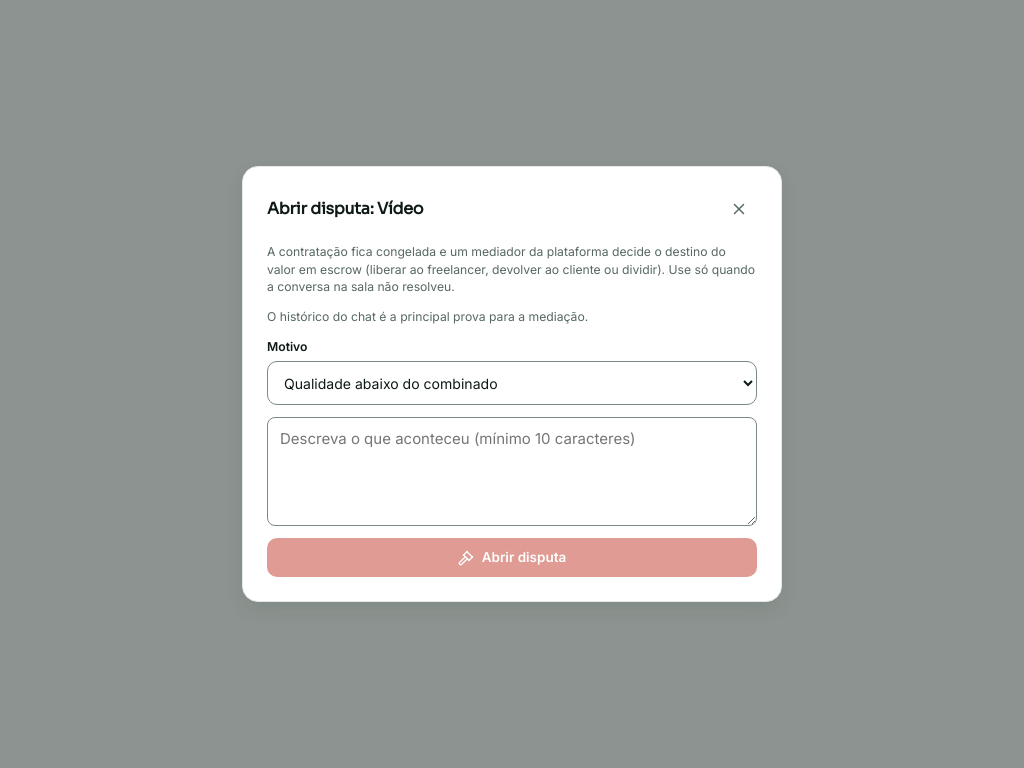
DisputeModal › a API recusa: mostra a mensagem dela e o modal continua aberto, com o texto digitado
In the text box named "Descrição da disputa": (512,472) [267,417,757,526], type "Não recebi o arquivo final."
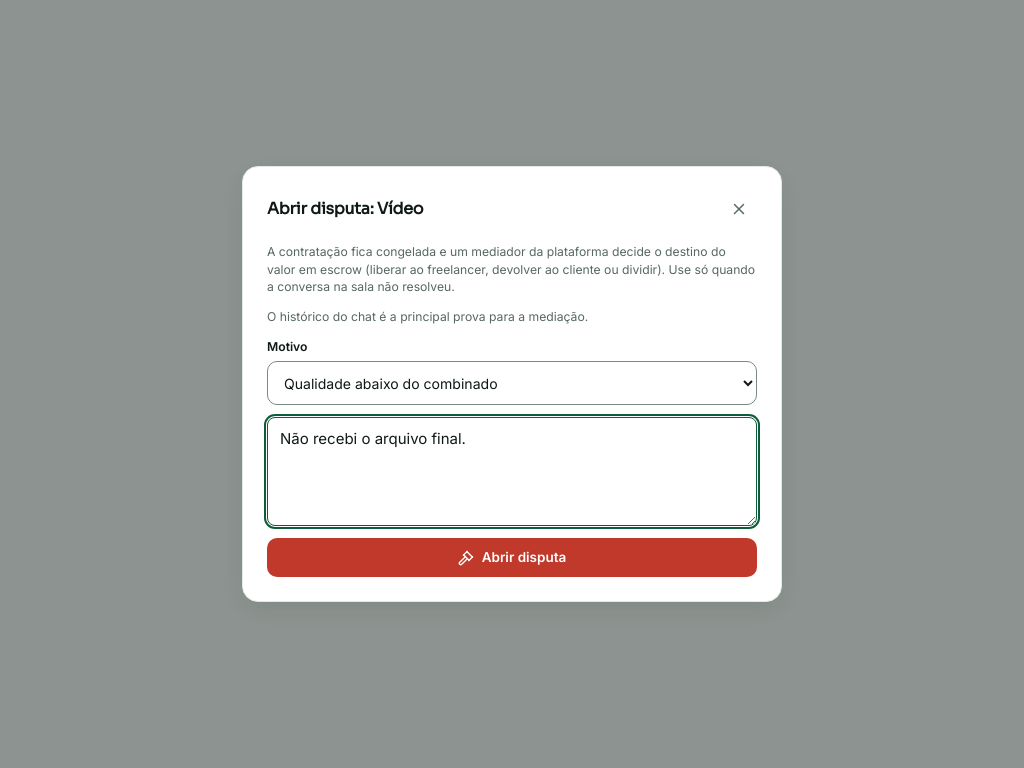
Click the button "Abrir disputa": (512,558) [267,538,757,577]
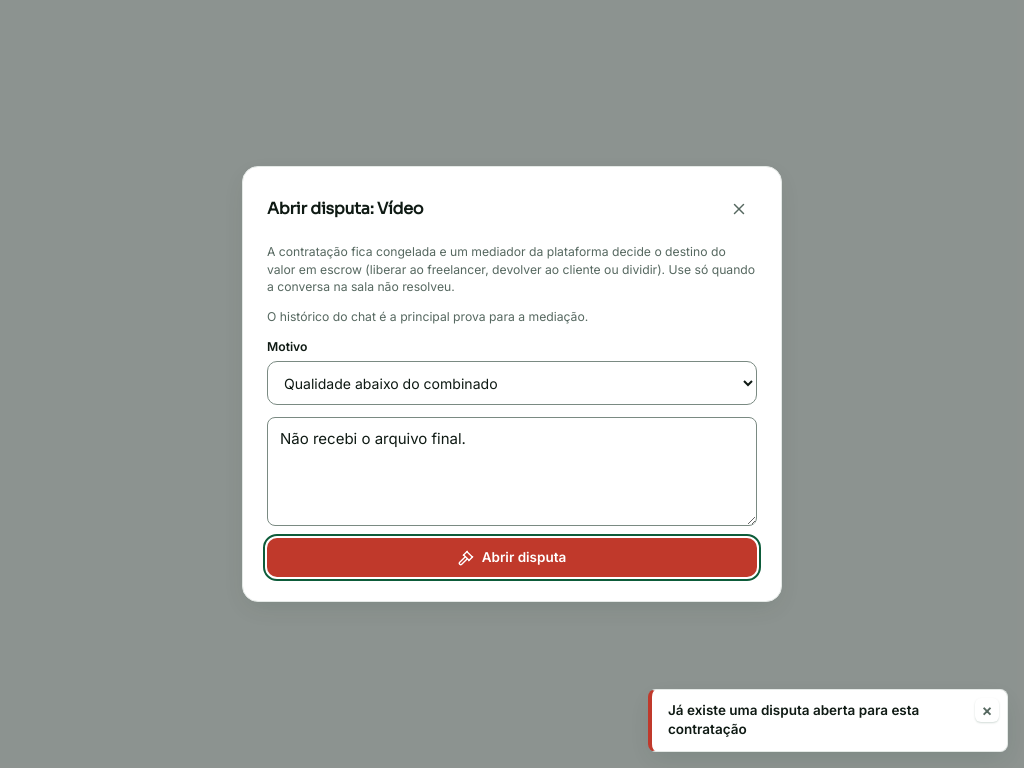
Expected: the button "Abrir disputa" is enabled, [267,538,757,577]
Expected: the text "Já existe uma disputa aberta para esta contratação" is shown, [668,702,919,738]
